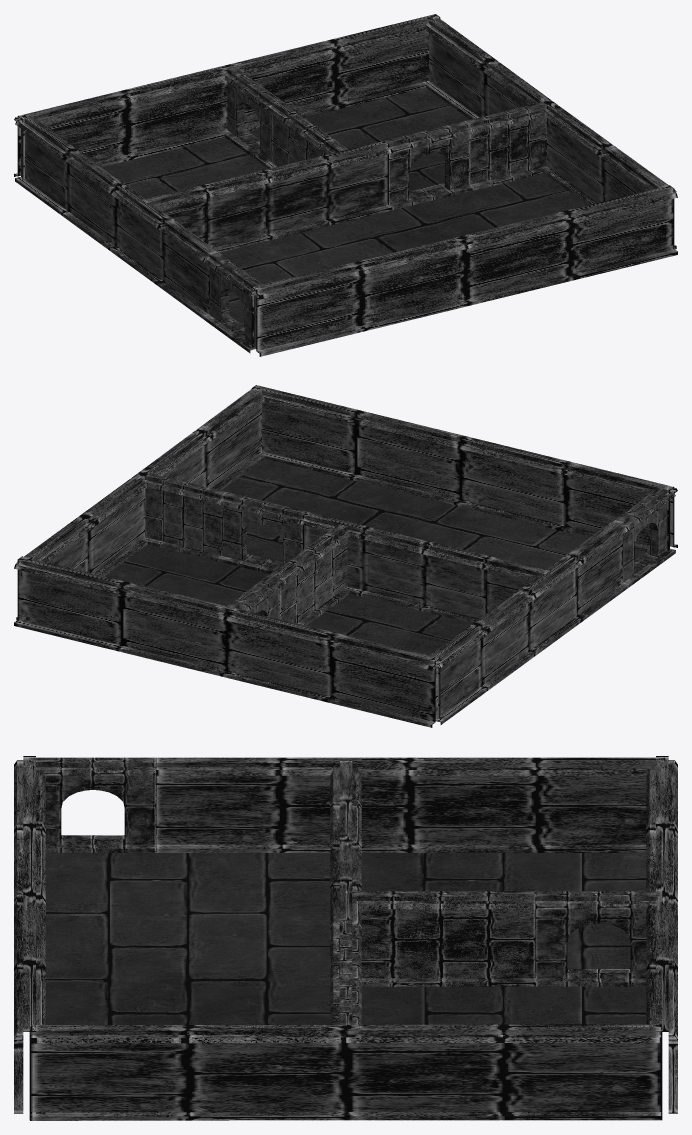
Rendered from dungeon_001.glb.
3 renders of one model, top to bottom at view 1: azimuth 30°, elevation 25°; view 2: azimuth 150°, elevation 25°; view 3: azimuth 270°, elevation 25°, orthographic. The views are drawn at different scales.
Visible parts, largest first — view 1: dungeon_001_wall_3td_001.002, 3Room, dungeon_001_wall_3td_001.003, dungeon_001_wall_3td_001.004, dungeon_001_wall_3td_001.008, dungeon_001_wall_3td_001.001, dungeon_001_wall_3td_001.007, dungeon_001_wall_3td_001.005, dungeon_001_wall_3td_004.001, dungeon_001_wall_3td_004, dungeon_001_wall_3td_004.002, dungeon_001_wall_3td_001.006; view 2: dungeon_001_wall_3td_001.003, dungeon_001_wall_3td_001.002, 3Room, dungeon_001_wall_3td_001.008, dungeon_001_wall_3td_001.004, dungeon_001_wall_3td_001.001, dungeon_001_wall_3td_001.007, dungeon_001_wall_3td_001.005, dungeon_001_wall_3td_001.006, dungeon_001_wall_3td_004.001, dungeon_001_wall_3td_004, dungeon_001_wall_3td_004.002; view 3: 3Room, dungeon_001_wall_3td_001.008, dungeon_001_wall_3td_001.001, dungeon_001_wall_3td_001.007, dungeon_001_wall_3td_001.006, dungeon_001_wall_3td_001.002, dungeon_001_wall_3td_001.003, dungeon_001_wall_3td_004, dungeon_001_wall_3td_004.002, dungeon_001_wall_3td_001.004, dungeon_001_wall_3td_004.001, dungeon_001_wall_3td_001.005.
Boxes of the visible parts, x1,y1,x2,y2 form: dungeon_001_wall_3td_001.002: [248, 185, 677, 356]; 3Room: [102, 88, 587, 326]; dungeon_001_wall_3td_001.003: [14, 14, 440, 179]; dungeon_001_wall_3td_001.004: [141, 141, 392, 252]; dungeon_001_wall_3td_001.008: [15, 114, 221, 318]; dungeon_001_wall_3td_001.001: [423, 16, 676, 248]; dungeon_001_wall_3td_001.007: [426, 16, 675, 249]; dungeon_001_wall_3td_001.005: [465, 102, 549, 190]; dungeon_001_wall_3td_004.001: [384, 121, 473, 210]; dungeon_001_wall_3td_004: [203, 252, 263, 353]; dungeon_001_wall_3td_004.002: [221, 65, 282, 166]; dungeon_001_wall_3td_001.006: [265, 100, 347, 168]; dungeon_001_wall_3td_001.003: [14, 556, 443, 727]; dungeon_001_wall_3td_001.002: [251, 385, 677, 551]; 3Room: [105, 458, 645, 655]; dungeon_001_wall_3td_001.008: [427, 520, 628, 724]; dungeon_001_wall_3td_001.004: [300, 512, 550, 623]; dungeon_001_wall_3td_001.001: [17, 387, 266, 619]; dungeon_001_wall_3td_001.007: [16, 388, 264, 620]; dungeon_001_wall_3td_001.005: [142, 473, 226, 561]; dungeon_001_wall_3td_001.006: [267, 524, 353, 625]; dungeon_001_wall_3td_004.001: [218, 492, 307, 573]; dungeon_001_wall_3td_004: [611, 486, 675, 587]; dungeon_001_wall_3td_004.002: [225, 574, 285, 618]; 3Room: [45, 853, 646, 1024]; dungeon_001_wall_3td_001.008: [153, 757, 665, 852]; dungeon_001_wall_3td_001.001: [29, 1024, 662, 1120]; dungeon_001_wall_3td_001.007: [29, 1025, 662, 1120]; dungeon_001_wall_3td_001.006: [345, 891, 536, 986]; dungeon_001_wall_3td_001.002: [14, 756, 45, 1113]; dungeon_001_wall_3td_001.003: [646, 756, 677, 1113]; dungeon_001_wall_3td_004: [29, 757, 156, 852]; dungeon_001_wall_3td_004.002: [535, 891, 662, 986]; dungeon_001_wall_3td_001.004: [330, 760, 361, 928]; dungeon_001_wall_3td_004.001: [330, 920, 361, 981]; dungeon_001_wall_3td_001.005: [330, 974, 361, 1025].
Bounding box in the file's own units: 21.05 × 3 × 21.
Materials: 4 (4 with a texture image).
